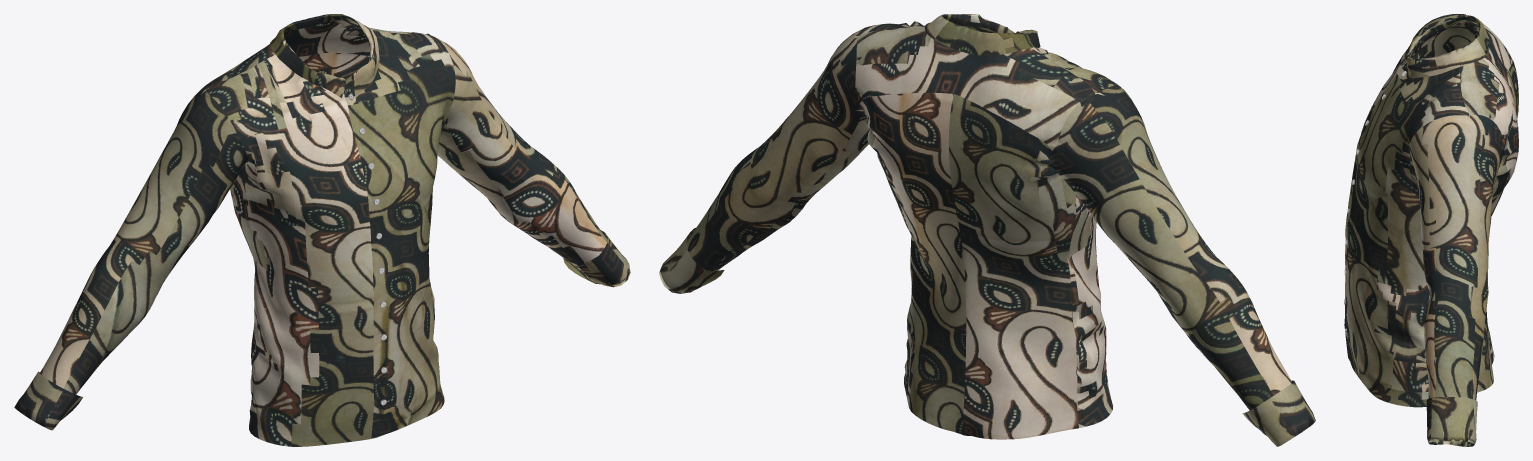
The model's file is new-shirt.obj.
3 renders of one model, left to right at view 1: azimuth 30°, elevation 25°; view 2: azimuth 150°, elevation 25°; view 3: azimuth 270°, elevation 25°, orthographic. The views are drawn at different scales.
Visible parts, largest first — view 1: Camisa; view 2: Camisa; view 3: Camisa.
Part boxes in pixels (<box>): Camisa: <box>14,14,630,446</box>; Camisa: <box>659,14,1315,446</box>; Camisa: <box>1344,14,1518,446</box>.
Bounding box in the file's own units: 0.4614 × 0.2766 × 0.127.
